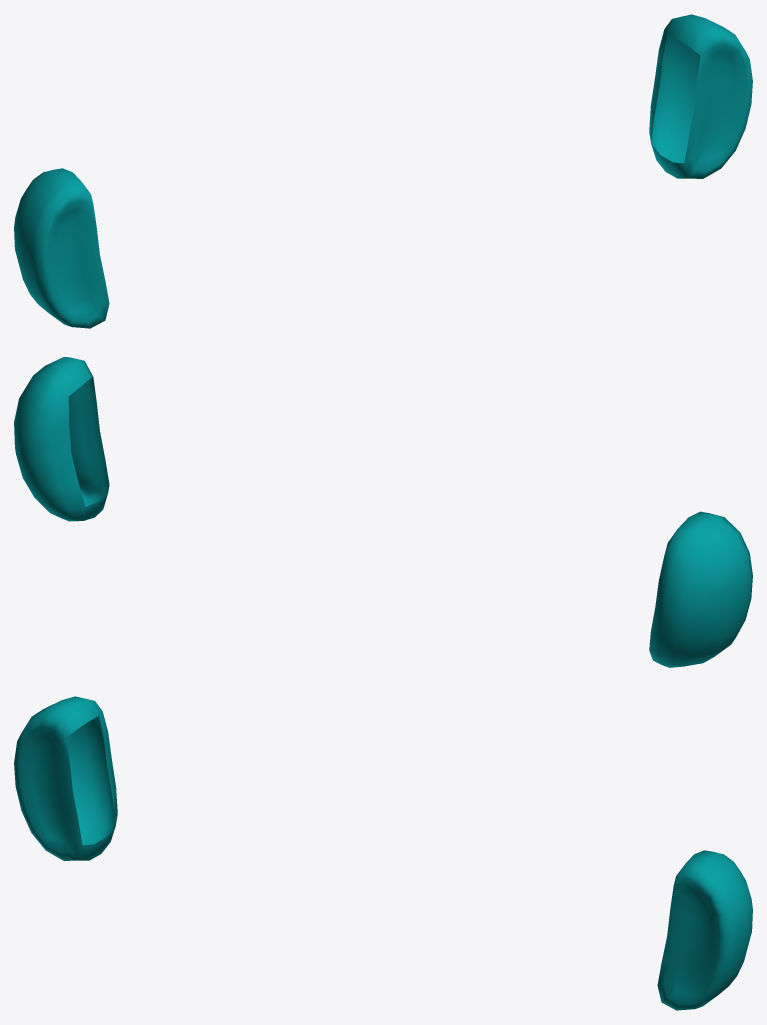
The model's file is Ears_04.glb.
3 views of the same model, one above another, from view 1: azimuth 30°, elevation 25°; view 2: azimuth 150°, elevation 25°; view 3: azimuth 330°, elevation 25° (orthographic).
Visible parts, largest first — view 1: Ears_04; view 2: Ears_04; view 3: Ears_04.
Boxes of the visible parts, x1=… form: Ears_04: x1=14, y1=14, x2=752, y2=328; Ears_04: x1=14, y1=357, x2=752, y2=667; Ears_04: x1=14, y1=696, x2=752, y2=1010.
Size of the model in its own units: 0.6554 by 0.1295 by 0.076.
Materials: 1 (1 with a texture image).
